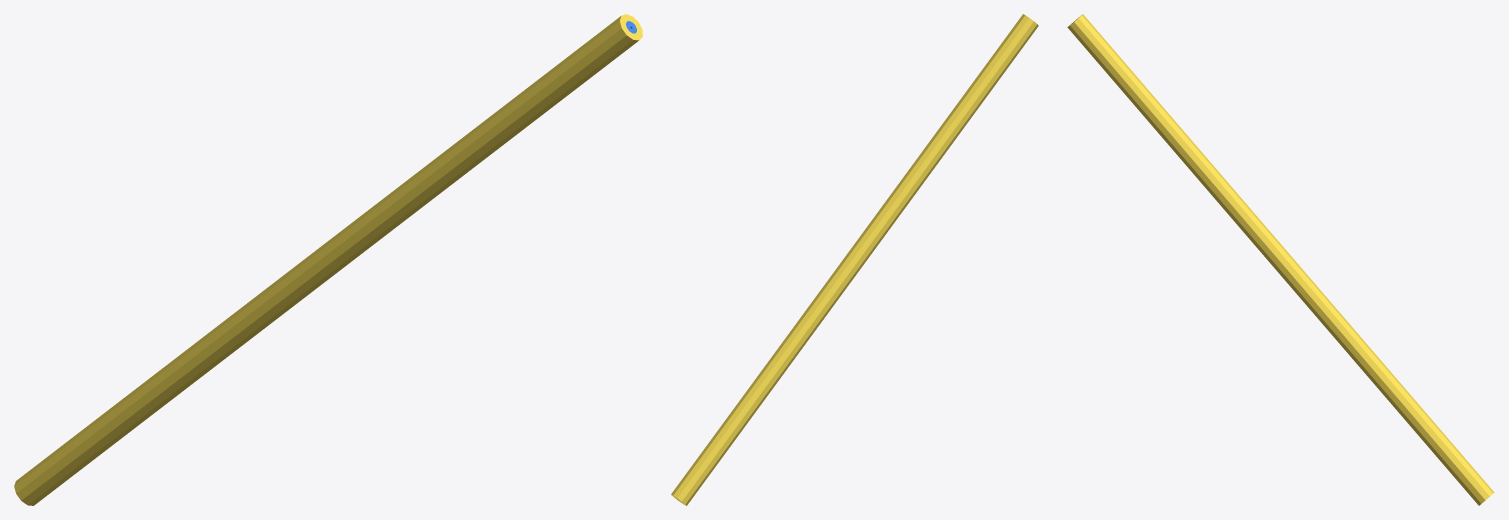
Rendered from tile_354.glb.
3 views of the same model, side by side, from view 1: azimuth 90°, elevation 25°; view 2: azimuth 150°, elevation 25°; view 3: azimuth 270°, elevation 25° (orthographic). The views are drawn at different scales.
Bounding box in the file's own units: 2.52 × 5.39 × 5.08.
